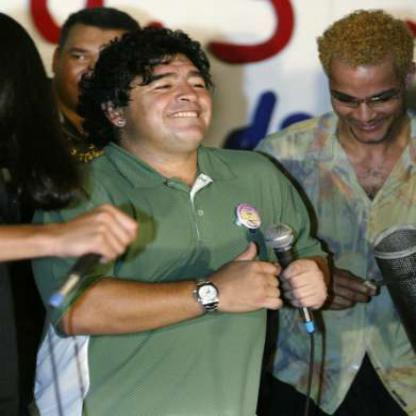face: (119, 30, 215, 154), (56, 10, 145, 113), (329, 35, 407, 145)
